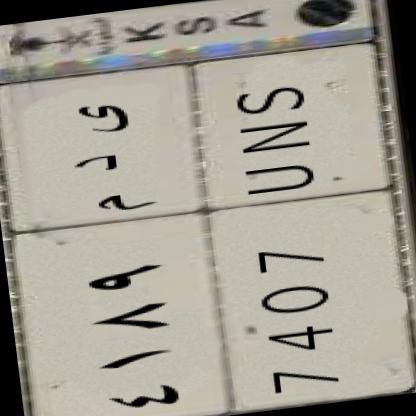english: (162, 34, 416, 416)
